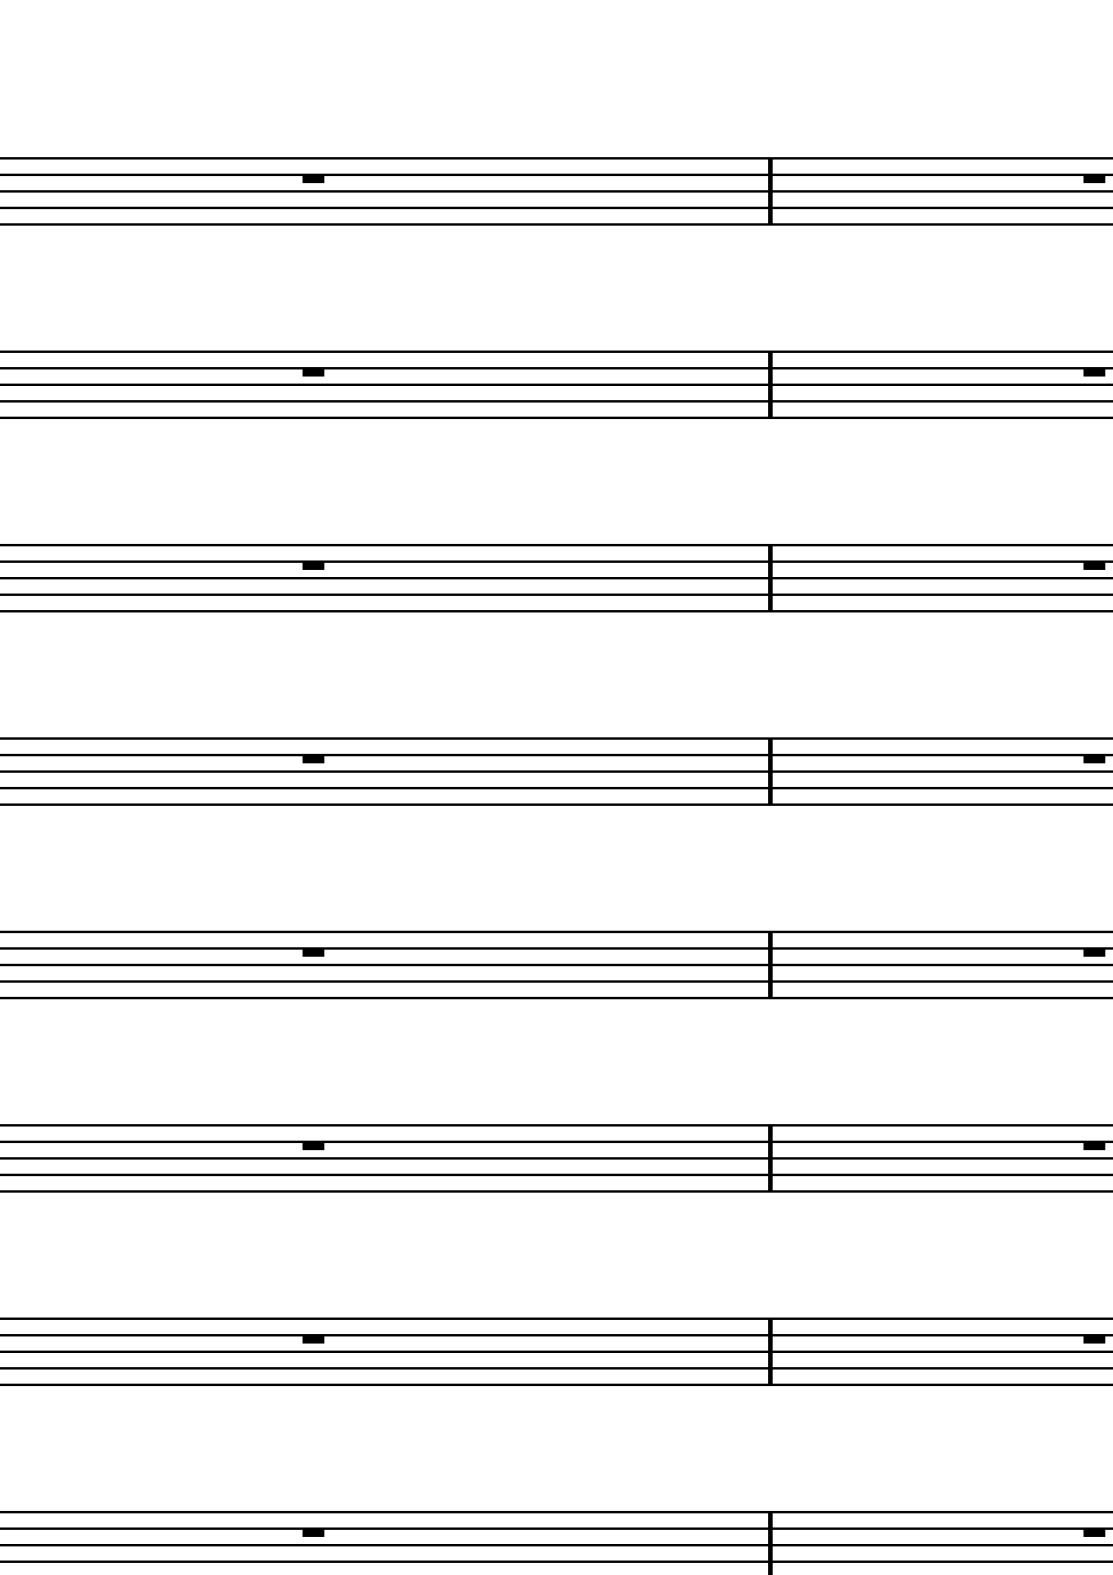Rests1: (291, 553, 335, 577), (296, 745, 332, 769), (1077, 553, 1113, 577), (298, 938, 332, 962), (1077, 360, 1111, 384), (298, 1132, 329, 1157), (1077, 940, 1113, 962), (1076, 1327, 1109, 1349), (1076, 1521, 1109, 1542), (298, 360, 331, 381), (1077, 1135, 1109, 1156), (1079, 747, 1108, 769), (1080, 166, 1108, 189), (295, 1329, 330, 1347), (298, 170, 330, 189), (298, 1522, 328, 1538)
Single_barline: (756, 1319, 783, 1386), (756, 1123, 782, 1193), (756, 930, 781, 999), (756, 544, 781, 613), (756, 737, 781, 806), (756, 157, 781, 224), (756, 350, 781, 417), (758, 1511, 782, 1575)
